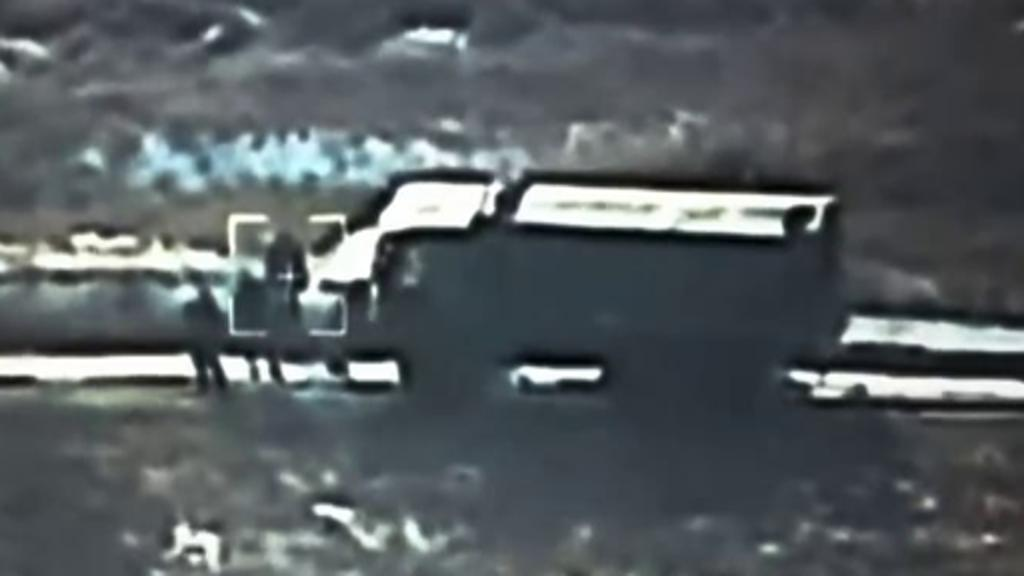TRUCK: (314, 167, 846, 417)
